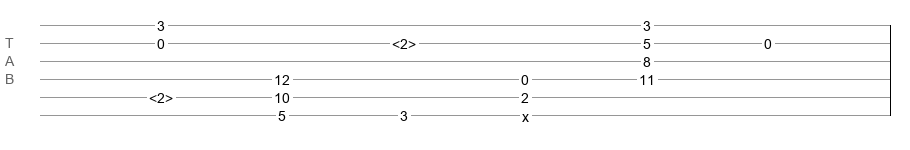0: (157, 36, 165, 46), (521, 72, 529, 82), (764, 36, 772, 46)
10: (274, 90, 290, 100)
11: (639, 72, 655, 82)
12: (274, 72, 290, 82)
2: (521, 90, 529, 100)
3: (157, 18, 165, 28), (400, 108, 408, 118), (643, 18, 651, 28)
5: (278, 108, 286, 118), (643, 36, 651, 46)
8: (643, 54, 651, 64)
harmonic: (149, 90, 173, 100), (392, 36, 416, 46)
x: (522, 109, 529, 117)
